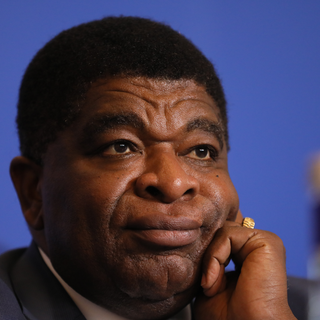eye: (176, 139, 222, 168), (90, 136, 143, 161)
